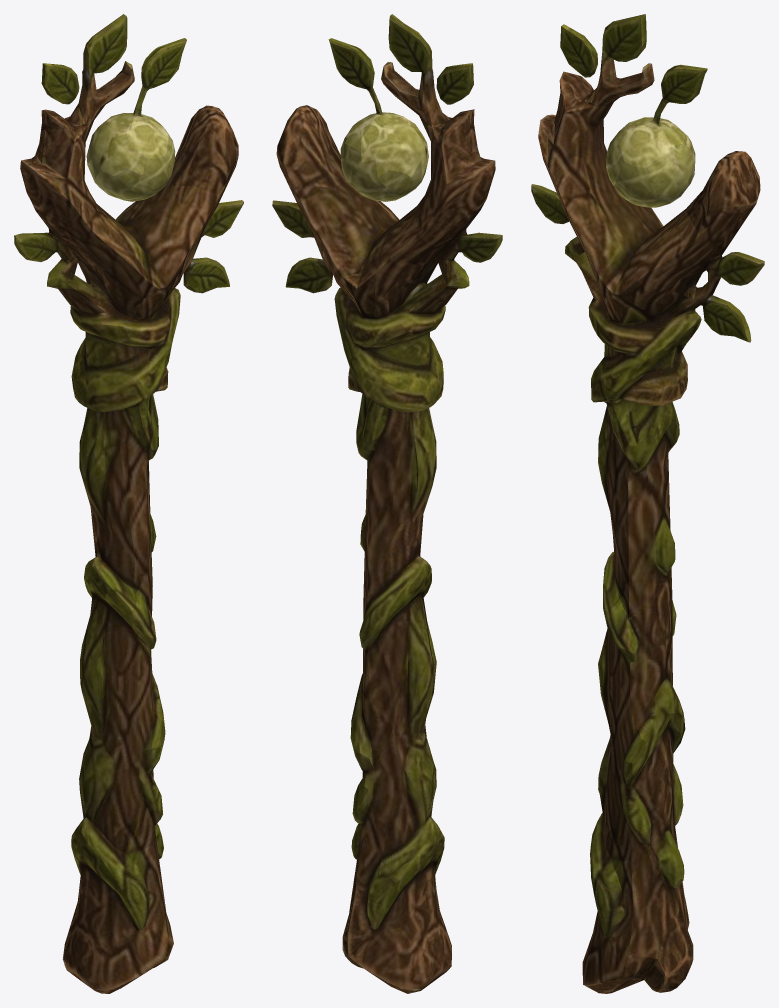
The model's file is rootwise_staff.glb.
3 renders of one model, left to right at view 1: azimuth 30°, elevation 25°; view 2: azimuth 150°, elevation 25°; view 3: azimuth 330°, elevation 25°, orthographic.
Bounding box in the file's own units: 0.5356 × 2.15 × 0.267.
Materials: 1 (1 with a texture image).
